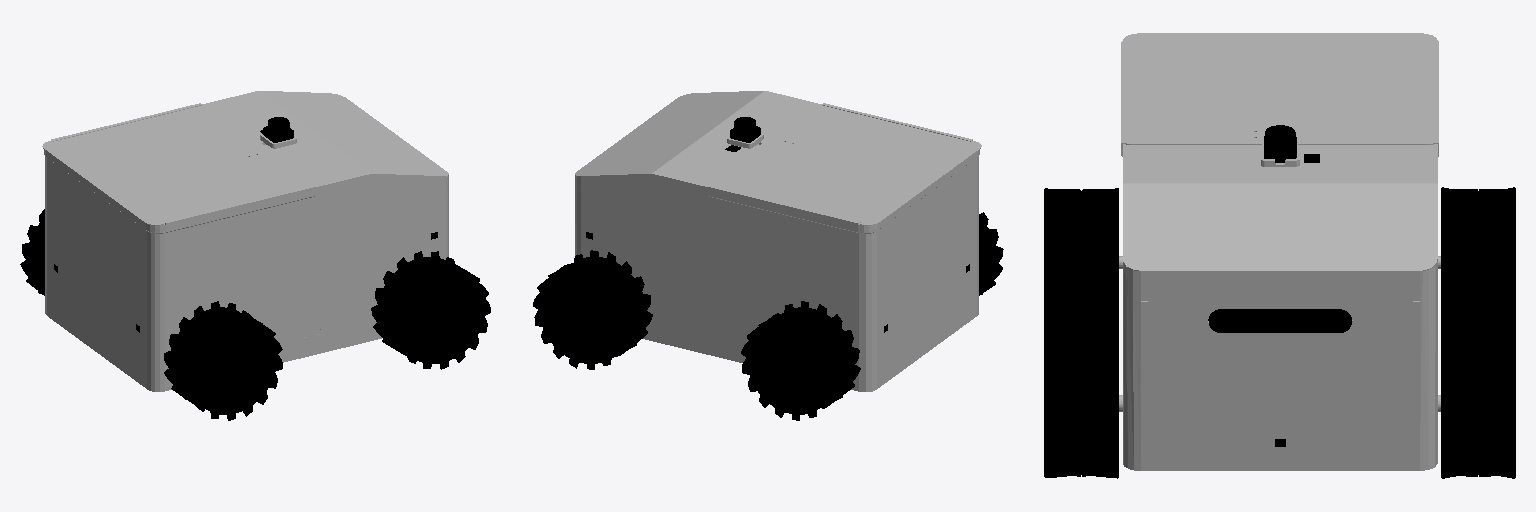
URDF robot description (my_amr_robot):
<robot name="my_amr_robot">
  
  <link name="base_footprint" />
  
  <joint name="base_joint" type="fixed">
        <parent link="base_footprint" />
        <child link="base_link" />
        <origin xyz="0 0 0.1" rpy="0 0 0"/>
  </joint>

  <link name="base_link">
    <inertial>
      <origin xyz="0 0 0" rpy="0 0 0" />
      <mass value="9" />
      <inertia ixx="0.388" ixy="0" ixz="0" iyy="0.674" iyz="0" izz="0.100" />
    </inertial>
    <visual>
      <origin xyz="0 0 0" rpy="0 0 0" />
      <geometry>
        <mesh filename="package://my_robot_description/mesh/base_link.STL" />
      </geometry>
      <material name=""><color rgba="0.75 0.75 0.75 1" /></material>
    </visual>
    <collision>
      <origin xyz="0 0 0" rpy="0 0 0" />
      <geometry>
        <mesh filename="package://my_robot_description/mesh/base_link.STL" />
      </geometry>
    </collision>
  </link>

  <link name="front_right_wheel_link">
    <inertial>
      <origin xyz="0 0 0" rpy="0 0 0" />
      <mass value="1.25" />
      <inertia ixx="0.00328" ixy="0" ixz="0" iyy="0.00506" iyz="0" izz="0.00328" />
    </inertial>
    <visual>
      <origin xyz="0 0 0" rpy="0 0 0" />
      <geometry>
        <mesh filename="package://my_robot_description/mesh/front_right_wheel_link.STL" />
      </geometry>
      <material name=""><color rgba="0 0 0 1" /></material>
    </visual>
    <collision>
      <origin xyz="0 0 0" rpy="1.57079632679 0 0" />
      <geometry>
        <cylinder radius="0.08" length="0.07"/>
      </geometry>
    </collision>
  </link>
  <joint name="front_right_wheel_joint" type="continuous">
    <origin xyz="0.18772 -0.218 0.0005" rpy="0 0 0" />
    <parent link="base_link" />
    <child link="front_right_wheel_link" />
    <axis xyz="0 1 0" />
    <limit effort="35" velocity="50" />
  </joint>

  <link name="front_left_wheel_link">
    <inertial>
      <origin xyz="0 0 0" rpy="0 0 0" />
      <mass value="1.25" />
      <inertia ixx="0.00328" ixy="0" ixz="0" iyy="0.00506" iyz="0" izz="0.00328" />
    </inertial>
    <visual>
      <origin xyz="0 0 0" rpy="0 0 0" />
      <geometry>
        <mesh filename="package://my_robot_description/mesh/front_left_wheel_link.STL" />
      </geometry>
      <material name=""><color rgba="0 0 0 1" /></material>
    </visual>
    <collision>
      <origin xyz="0 0 0" rpy="1.57079632679 0 0" />
      <geometry>
        <cylinder radius="0.08" length="0.07"/>
      </geometry>
    </collision>
  </link>
  <joint name="front_left_wheel_joint" type="continuous">
    <origin xyz="0.18772 0.225 0.0005" rpy="0 0 0" />
    <parent link="base_link" />
    <child link="front_left_wheel_link" />
    <axis xyz="0 1 0" />
    <limit effort="35" velocity="50" />
  </joint>

  <link name="back_left_wheel_link">
    <inertial>
      <origin xyz="0 0 0" rpy="0 0 0" />
      <mass value="1.25" />
      <inertia ixx="0.00328" ixy="0" ixz="0" iyy="0.00506" iyz="0" izz="0.00328" />
    </inertial>
    <visual>
      <origin xyz="0 0 0" rpy="0 0 0" />
      <geometry>
        <mesh filename="package://my_robot_description/mesh/back_left_wheel_link.STL" />
      </geometry>
      <material name=""><color rgba="0 0 0 1" /></material>
    </visual>
    <collision>
      <origin xyz="0 0 0" rpy="1.57079632679 0 0" />
      <geometry>
        <cylinder radius="0.08" length="0.07"/>
      </geometry>
    </collision>
  </link>
  <joint name="back_left_wheel_joint" type="continuous">
    <origin xyz="-0.19428 0.225 0.0005" rpy="0 0 0" />
    <parent link="base_link" />
    <child link="back_left_wheel_link" />
    <axis xyz="0 1 0" />
    <limit effort="35" velocity="50" />
  </joint>

  <link name="back_right_wheel_link">
    <inertial>
      <origin xyz="0 0 0" rpy="0 0 0" />
      <mass value="1.25" />
      <inertia ixx="0.00328" ixy="0" ixz="0" iyy="0.00506" iyz="0" izz="0.00328" />
    </inertial>
    <visual>
      <origin xyz="0 0 0" rpy="0 0 0" />
      <geometry>
        <mesh filename="package://my_robot_description/mesh/back_right_wheel_link.STL" />
      </geometry>
      <material name=""><color rgba="0 0 0 1" /></material>
    </visual>
    <collision>
      <origin xyz="0 0 0" rpy="1.57079632679 0 0" />
      <geometry>
        <cylinder radius="0.08" length="0.07"/>
      </geometry>
    </collision>
  </link>
  <joint name="back_right_wheel_joint" type="continuous">
    <origin xyz="-0.19428 -0.218 0.0005" rpy="0 0 0" />
    <parent link="base_link" />
    <child link="back_right_wheel_link" />
    <axis xyz="0 1 0" />
    <limit effort="35" velocity="50" />
  </joint>

  <gazebo reference="front_left_wheel_link">
    <mu1>2.0</mu1> <mu2>0.5</mu2> 
    <kp>10000000.0</kp> <kd>1.0</kd> <minDepth>0.001</minDepth>
    <fdir1>1 0 0</fdir1>
  </gazebo>

  <gazebo reference="front_right_wheel_link">
    <mu1>2.0</mu1> <mu2>0.5</mu2> 
    <kp>10000000.0</kp> <kd>1.0</kd> <minDepth>0.001</minDepth>
    <fdir1>1 0 0</fdir1>
  </gazebo>

  <gazebo reference="back_left_wheel_link">
    <mu1>2.0</mu1> <mu2>0.5</mu2> 
    <kp>10000000.0</kp> <kd>1.0</kd> <minDepth>0.001</minDepth>
    <fdir1>1 0 0</fdir1>
  </gazebo>

  <gazebo reference="back_right_wheel_link">
    <mu1>2.0</mu1> <mu2>0.5</mu2> 
    <kp>10000000.0</kp> <kd>1.0</kd> <minDepth>0.001</minDepth>
    <fdir1>1 0 0</fdir1>
  </gazebo>

  <link name="lidar_link">
    <visual>
      <origin xyz="0 0 0" rpy="0 0 0" />
      <geometry><mesh filename="package://my_robot_description/mesh/lidar_link.STL" /></geometry>
      <material name=""><color rgba="0 0 0 1" /></material>
    </visual>
    <collision>
      <origin xyz="0 0 0" rpy="0 0 0" />
      <geometry><mesh filename="package://my_robot_description/mesh/lidar_link.STL" /></geometry>
    </collision>
  </link>
  <joint name="lidar_joint" type="fixed">
    <origin xyz="0.03872 0.00389 0.267" rpy="0 0 0" />
    <parent link="base_link" />
    <child link="lidar_link" />
  </joint>

  <link name="camera_link">
    <visual>
      <origin xyz="0 0 0" rpy="0 0 0" />
      <geometry><mesh filename="package://my_robot_description/mesh/camera_link.STL" /></geometry>
      <material name=""><color rgba="0 0 0 1" /></material>
    </visual>
    <collision>
      <origin xyz="0 0 0" rpy="0 0 0" />
      <geometry><mesh filename="package://my_robot_description/mesh/camera_link.STL" /></geometry>
    </collision>
  </link>
  <joint name="camera_joint" type="fixed">
    <origin xyz="0.25622 0.01 0.137" rpy="0 0 0" />
    <parent link="base_link" />
    <child link="camera_link" />
  </joint>

  <link name="gps_link">
    <visual>
      <origin xyz="0 0 0" rpy="0 0 0" />
      <geometry><mesh filename="package://my_robot_description/mesh/gps_link.STL" /></geometry>
      <material name=""><color rgba="0 0 0 1" /></material>
    </visual>
    <collision>
      <origin xyz="0 0 0" rpy="0 0 0" />
      <geometry><mesh filename="package://my_robot_description/mesh/gps_link.STL" /></geometry>
    </collision>
  </link>
  <joint name="gps_joint" type="fixed">
    <origin xyz="0.039 0.039 0.24251" rpy="0 0 0" />
    <parent link="base_link" />
    <child link="gps_link" />
  </joint>

  <link name="Tof_F_Link">
    <visual>
      <origin xyz="0 0 0" rpy="0 0 0" />
      <geometry><mesh filename="package://my_robot_description/mesh/Tof_F_Link.STL" /></geometry>
      <material name=""><color rgba="0 0 0 1" /></material>
    </visual>
    <collision>
      <origin xyz="0 0 0" rpy="0 0 0" />
      <geometry><mesh filename="package://my_robot_description/mesh/Tof_F_Link.STL" /></geometry>
    </collision>
  </link>
  <joint name="Tof_F_joint" type="fixed">
    <origin xyz="0.25622 0.0018543 -0.015494" rpy="0 0 0" />
    <parent link="base_link" />
    <child link="Tof_F_Link" />
  </joint>

  <link name="Tof_FL_link">
    <visual>
      <origin xyz="0 0 0" rpy="0 0 0" />
      <geometry><mesh filename="package://my_robot_description/mesh/Tof_FL_link.STL" /></geometry>
      <material name=""><color rgba="0 0 0 1" /></material>
    </visual>
    <collision>
      <origin xyz="0 0 0" rpy="0 0 0" />
      <geometry><mesh filename="package://my_robot_description/mesh/Tof_FL_link.STL" /></geometry>
    </collision>
  </link>
  <joint name="Tof_FL_joint" type="fixed">
    <origin xyz="0.22272 0.18435 0.10731" rpy="0 0 0" />
    <parent link="base_link" />
    <child link="Tof_FL_link" />
  </joint>

  <link name="Tof_FR_link">
    <visual>
      <origin xyz="0 0 0" rpy="0 0 0" />
      <geometry><mesh filename="package://my_robot_description/mesh/Tof_FR_link.STL" /></geometry>
      <material name=""><color rgba="0 0 0 1" /></material>
    </visual>
    <collision>
      <origin xyz="0 0 0" rpy="0 0 0" />
      <geometry><mesh filename="package://my_robot_description/mesh/Tof_FR_link.STL" /></geometry>
    </collision>
  </link>
  <joint name="Tof_FR_joint" type="fixed">
    <origin xyz="0.21875 -0.17665 0.10731" rpy="0 0 0" />
    <parent link="base_link" />
    <child link="Tof_FR_link" />
  </joint>

  <link name="Tof_BL_link">
    <visual>
      <origin xyz="0 0 0" rpy="0 0 0" />
      <geometry>
        <mesh filename="package://my_robot_description/mesh/Tof_BL_link.STL" />
      </geometry>
      <material name=""><color rgba="0 0 0 1" /></material>
    </visual>
    <collision>
      <origin xyz="0 0 0" rpy="0 0 0" />
      <geometry>
        <mesh filename="package://my_robot_description/mesh/Tof_BL_link.STL" />
      </geometry>
    </collision>
  </link>
  <joint name="Tof_BL_joint" type="fixed">
    <origin xyz="-0.19428 0.21469 0.00050624" rpy="0 0 0" />
    <parent link="base_link" />
    <child link="Tof_BL_link" />
  </joint>

  <link name="Tof_BR_link">
    <visual>
      <origin xyz="0 0 0" rpy="0 0 0" />
      <geometry><mesh filename="package://my_robot_description/mesh/Tof_BR_link.STL" /></geometry>
      <material name=""><color rgba="0 0 0 1" /></material>
    </visual>
    <collision>
      <origin xyz="0 0 0" rpy="0 0 0" />
      <geometry><mesh filename="package://my_robot_description/mesh/Tof_BR_link.STL" /></geometry>
    </collision>
  </link>
  <joint name="Tof_BR_joint" type="fixed">
    <origin xyz="-0.29478 -0.12406 0.044506" rpy="0 0 0" />
    <parent link="base_link" />
    <child link="Tof_BR_link" />
  </joint>

<!-- from here i make changing in code -->
<!-- the next code used for control in moning in gazebo -->

  <gazebo>
    <plugin name='front_diff_drive' filename='libgazebo_ros_diff_drive.so'>
      <ros>
        <namespace>/</namespace>
        <remapping>cmd_vel:=cmd_vel</remapping>
        <remapping>odom:=odom</remapping>
      </ros>

      <left_joint>front_left_wheel_joint</left_joint>
      <right_joint>front_right_wheel_joint</right_joint>

      <wheel_separation>0.44</wheel_separation>
      <wheel_diameter>0.15</wheel_diameter>
      
      <max_wheel_torque>200</max_wheel_torque>
      <max_wheel_acceleration>10.0</max_wheel_acceleration>

      <publish_odom>true</publish_odom>
      <publish_odom_tf>true</publish_odom_tf>
      <publish_wheel_tf>true</publish_wheel_tf>
      <odometry_frame>odom</odometry_frame>
      <robot_base_frame>base_footprint</robot_base_frame>
    </plugin>

    <plugin name='back_diff_drive' filename='libgazebo_ros_diff_drive.so'>
      <ros>
        <namespace>/</namespace>
        <remapping>cmd_vel:=cmd_vel</remapping>
      </ros>

      <left_joint>back_left_wheel_joint</left_joint>
      <right_joint>back_right_wheel_joint</right_joint>

      <wheel_separation>0.44</wheel_separation>
      <wheel_diameter>0.15</wheel_diameter>
      
      <max_wheel_torque>200</max_wheel_torque>
      <max_wheel_acceleration>10.0</max_wheel_acceleration>

      <publish_odom>false</publish_odom>
      <publish_odom_tf>false</publish_odom_tf>
      <publish_wheel_tf>true</publish_wheel_tf>
      <odometry_frame>odom</odometry_frame>
      <robot_base_frame>base_footprint</robot_base_frame>
    </plugin>
  </gazebo>

<!-- this code for control in lidar scan -->

  <gazebo reference="lidar_link"> <sensor name="lidar" type="ray">
      <pose>0 0 0 0 0 0</pose>
      <always_on>true</always_on>
      <visualize>true</visualize> <update_rate>5</update_rate>
      <ray>
        <scan>
          <horizontal>
            <samples>360</samples>
            <resolution>1</resolution>
            <min_angle>0.0</min_angle>
            <max_angle>6.28319</max_angle>
          </horizontal>
        </scan>
        <range>
          <min>0.120</min>
          <max>12.0</max> <resolution>0.015</resolution>
        </range>
        <noise>
          <type>gaussian</type>
          <mean>0.0</mean>
          <stddev>0.01</stddev>
        </noise>
      </ray>
      <plugin name="scan" filename="libgazebo_ros_ray_sensor.so">
        <ros>
          <remapping>~/out:=scan</remapping>
        </ros>
        <output_type>sensor_msgs/LaserScan</output_type>
        <frame_name>lidar_link</frame_name> </plugin>
    </sensor>
  </gazebo>
</robot>

--- Render facts (derived) ---
3 views of the same robot in one strip: view 1: azimuth 30°, elevation 25°; view 2: azimuth 150°, elevation 25°; view 3: azimuth 270°, elevation 25° (orthographic).
Robot: my_amr_robot — 14 links, 13 joints (4 continuous, 9 fixed); root link base_footprint; default pose: all joints at 0.
Visible links, largest first — view 1: base_link, front_right_wheel_link, back_right_wheel_link, back_left_wheel_link, lidar_link; view 2: base_link, front_left_wheel_link, back_left_wheel_link, back_right_wheel_link, lidar_link; view 3: base_link, front_right_wheel_link, front_left_wheel_link, back_left_wheel_link, back_right_wheel_link, camera_link, lidar_link.
Link boxes in pixels (x1=…): base_link: x1=42, y1=91, x2=448, y2=391; front_right_wheel_link: x1=371, y1=251, x2=490, y2=369; back_right_wheel_link: x1=164, y1=301, x2=282, y2=420; back_left_wheel_link: x1=20, y1=209, x2=44, y2=295; lidar_link: x1=263, y1=117, x2=293, y2=142; base_link: x1=575, y1=91, x2=981, y2=391; front_left_wheel_link: x1=533, y1=250, x2=652, y2=369; back_left_wheel_link: x1=741, y1=301, x2=860, y2=420; back_right_wheel_link: x1=979, y1=212, x2=1003, y2=295; lidar_link: x1=730, y1=117, x2=760, y2=142; base_link: x1=1119, y1=33, x2=1440, y2=470; front_right_wheel_link: x1=1044, y1=328, x2=1118, y2=478; front_left_wheel_link: x1=1441, y1=328, x2=1515, y2=478; back_left_wheel_link: x1=1441, y1=187, x2=1515, y2=330; back_right_wheel_link: x1=1044, y1=188, x2=1118, y2=330; camera_link: x1=1208, y1=309, x2=1351, y2=332; lidar_link: x1=1264, y1=125, x2=1296, y2=162.
Size in the robot's own frame: 0.5743 by 0.5403 by 0.3617 metres.
13 mesh visuals loaded from 13 distinct referenced files (13 binary STL).
